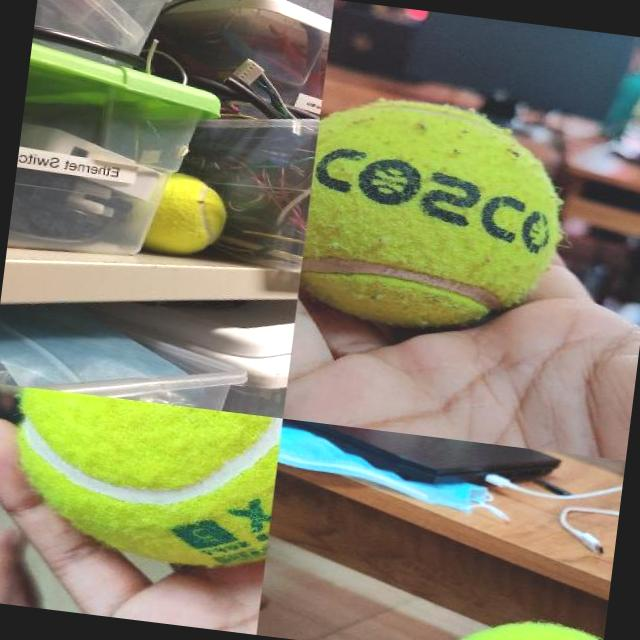Tennis Ball: (296, 90, 575, 344), (4, 386, 283, 572), (165, 172, 232, 261)
